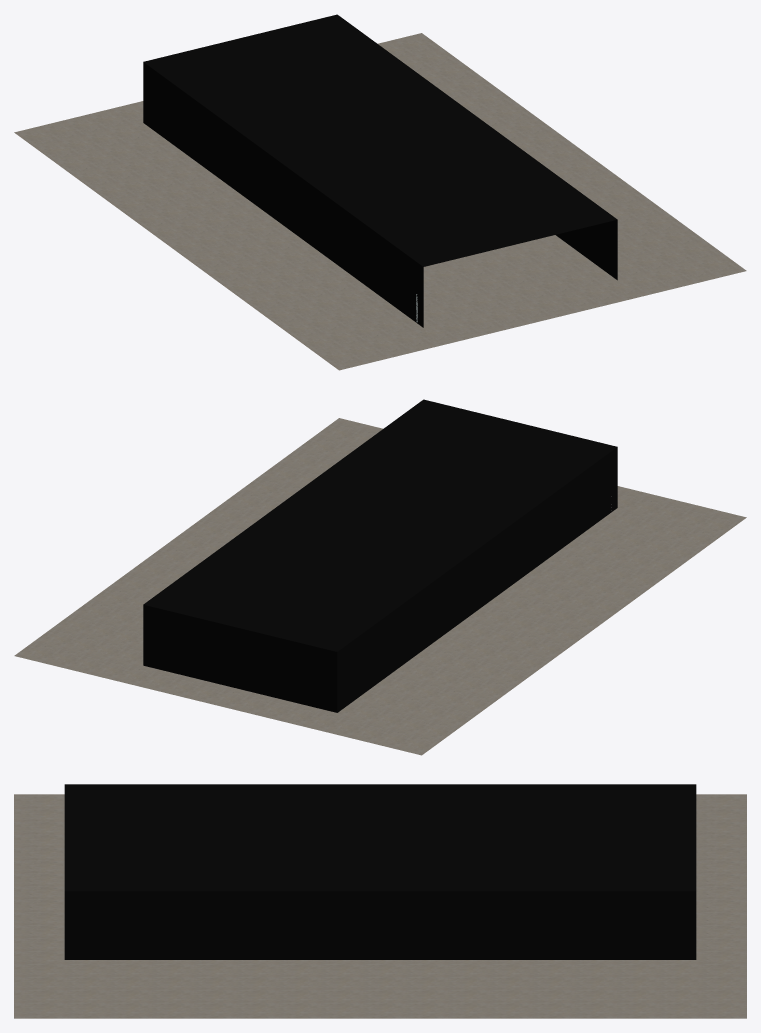
File: Garage.glb
3 views of the same model, one above another, from view 1: azimuth 30°, elevation 25°; view 2: azimuth 150°, elevation 25°; view 3: azimuth 270°, elevation 25° (orthographic). The views are drawn at different scales.
Visible parts, largest first — view 1: Cube, Plane; view 2: Cube, Plane; view 3: Cube, Plane.
Boxes of the visible parts, <box> form: Cube: <box>143,14,617,327</box>; Plane: <box>14,33,746,370</box>; Cube: <box>143,399,617,712</box>; Plane: <box>14,418,746,755</box>; Cube: <box>64,784,696,959</box>; Plane: <box>14,794,746,1018</box>.
Size of the model in its own units: 21 by 3 by 29.
3 materials, 1 textured.
